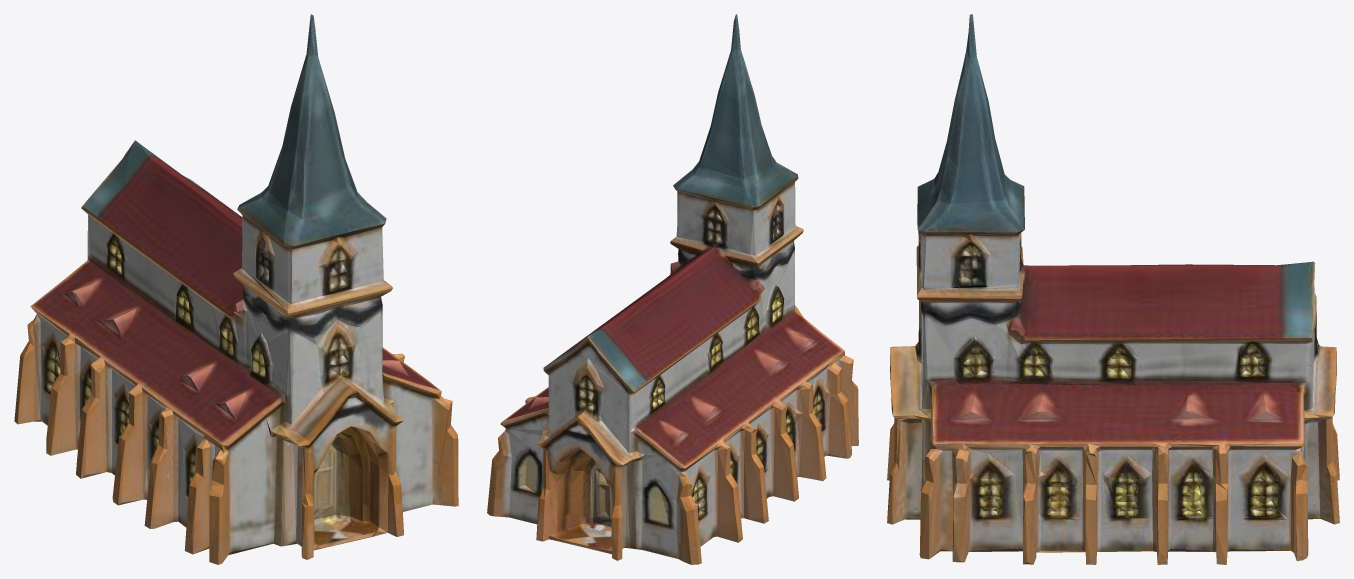
Rendered from church_white_red_spire_lod1.glb.
The picture shows the model from 3 angles, left to right: view 1: azimuth 30°, elevation 25°; view 2: azimuth 150°, elevation 25°; view 3: azimuth 270°, elevation 25°; orthographic projection. The views are drawn at different scales.
Parts seen in each view (by area): view 1: church_white_red_spire_lod1; view 2: church_white_red_spire_lod1; view 3: church_white_red_spire_lod1.
Boxes of the visible parts, bbox=[...] form: church_white_red_spire_lod1: bbox=[14, 14, 458, 564]; church_white_red_spire_lod1: bbox=[487, 14, 858, 564]; church_white_red_spire_lod1: bbox=[887, 14, 1339, 564].
Bounding box in the file's own units: 7.88 × 13.95 × 11.72.
Materials: 1 (1 with a texture image).
